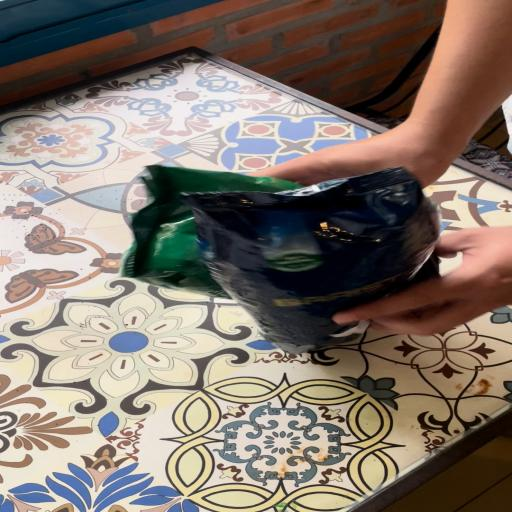cafe_hat: (183, 167, 439, 351)
cafe_xay: (121, 165, 299, 298)
